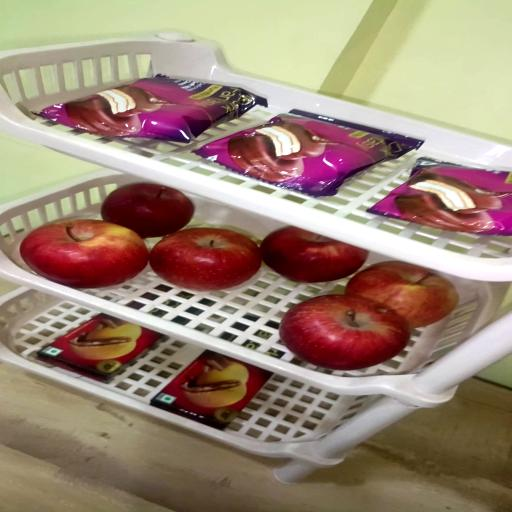Apple: (280, 296, 412, 371), (20, 220, 148, 290), (346, 262, 458, 329), (152, 229, 264, 292), (262, 228, 369, 284), (100, 185, 193, 241)
Choco Fills: (153, 351, 273, 430), (36, 315, 162, 383)
Choco Pie: (193, 109, 420, 197), (36, 74, 264, 142), (367, 160, 510, 238)
